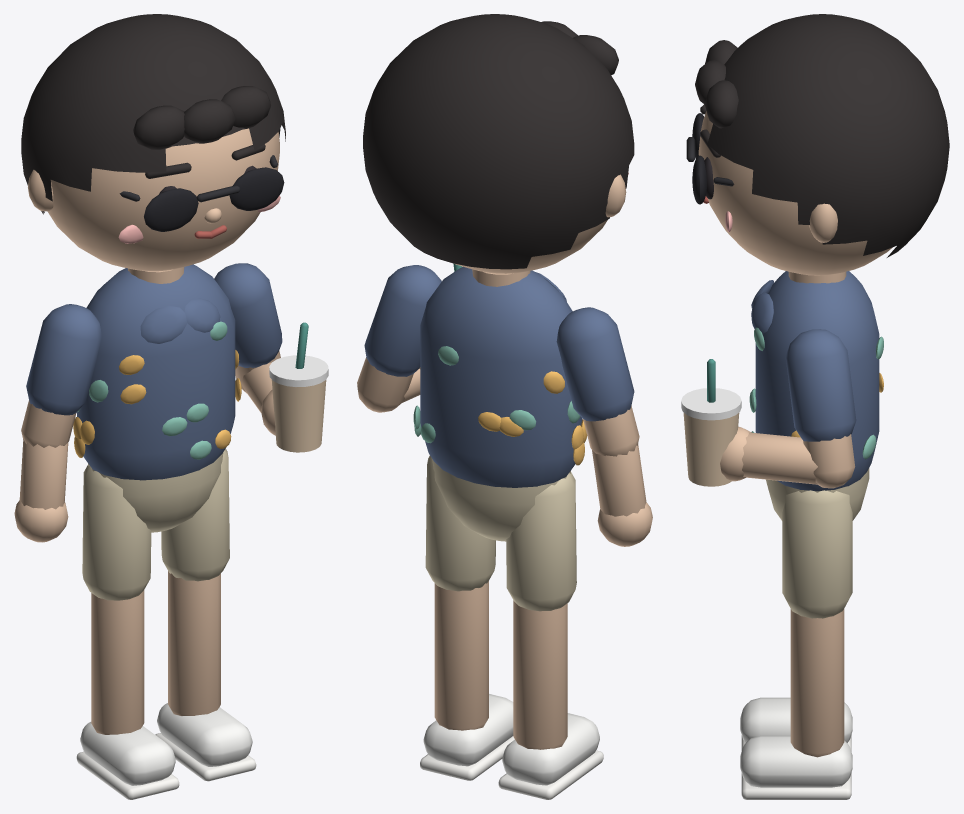
The model's file is Customer_Aloha.fbx.
3 views of the same model, side by side, from view 1: azimuth 30°, elevation 25°; view 2: azimuth 150°, elevation 25°; view 3: azimuth 270°, elevation 25° (orthographic). The views are drawn at different scales.
Parts seen in each view (by area): view 1: Head.002, Body.002, Leg_L.002, Leg_R.002, Arm_L.002, Arm_R.002; view 2: Head.002, Body.002, Leg_L.002, Leg_R.002, Arm_L.002, Arm_R.002; view 3: Head.002, Leg_R.002, Arm_R.002, Body.002, Leg_L.002.
Boxes of the visible parts, x1,y1,x2,y2 form: Head.002: (21, 14, 285, 271); Body.002: (73, 264, 241, 532); Leg_L.002: (76, 465, 179, 799); Leg_R.002: (155, 448, 256, 781); Arm_L.002: (14, 304, 101, 542); Arm_R.002: (214, 263, 328, 452); Head.002: (363, 14, 634, 273); Body.002: (413, 266, 587, 541); Leg_L.002: (498, 472, 603, 799); Leg_R.002: (420, 455, 514, 780); Arm_L.002: (556, 307, 652, 546); Arm_R.002: (357, 263, 462, 412); Head.002: (686, 14, 949, 275); Leg_R.002: (740, 490, 852, 799); Arm_R.002: (681, 329, 856, 488); Body.002: (749, 271, 883, 520); Leg_L.002: (740, 697, 852, 751).
Bounding box in the file's own units: 0.4962 × 1.28 × 0.4179.
